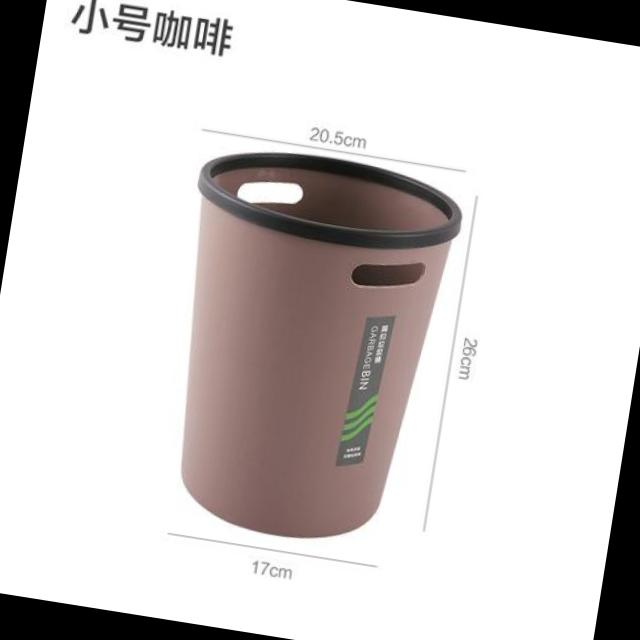dustbin: (139, 133, 475, 567)
